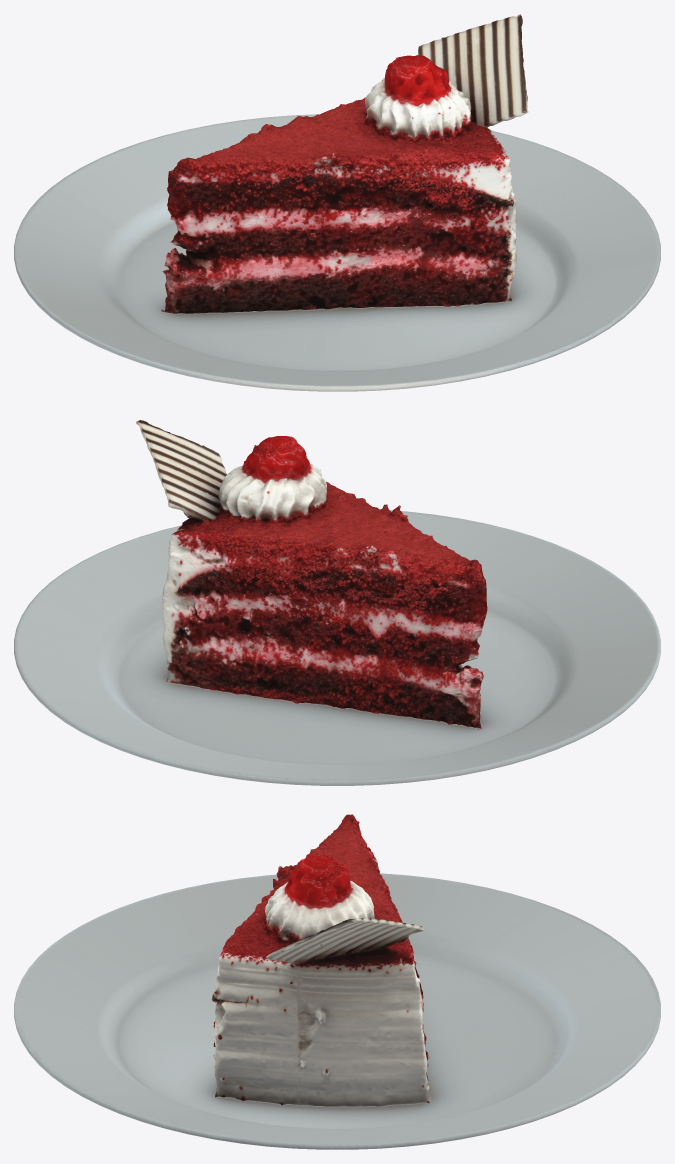
Rendered from redvelvet (2).glb.
The picture shows the model from 3 angles, top to bottom: view 1: azimuth 30°, elevation 25°; view 2: azimuth 150°, elevation 25°; view 3: azimuth 270°, elevation 25°; orthographic projection.
Visible parts, largest first — view 1: Object_2, Object_3; view 2: Object_2, Object_3; view 3: Object_2, Object_3.
Part boxes in pixels (x1,y1,x2,y2): Object_2: (14,114,660,391); Object_3: (161,14,528,313); Object_2: (14,510,660,785); Object_3: (136,420,487,729); Object_2: (14,873,660,1149); Object_3: (212,814,429,1106).
Size of the model in its own units: 0.2888 by 0.111 by 0.2888.
Materials: 1 (1 with a texture image).
